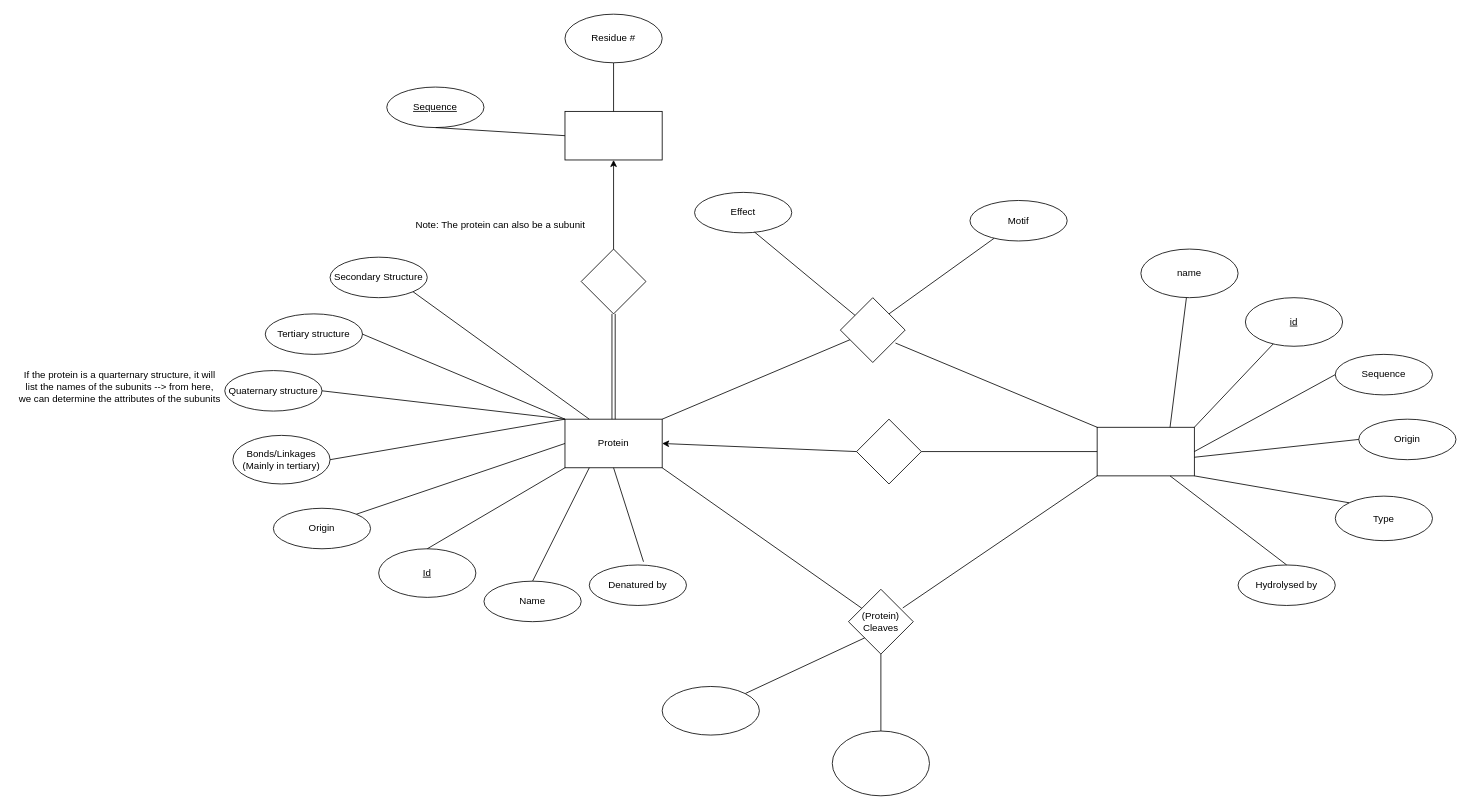
Some shapes in this 1470 by 810 pixel diagram are drawn without their labels. Each missing label, with the centre of its shape:
"Bases" belongs at [710,710].
"Binds to" belongs at [872,329].
"Codes for" belongs at [888,451].
"Has sequence" belongs at [613,281].
"Nuclease type" belongs at [880,763].
"Nucleic acid" belongs at [1145,451].
"Protein sequence" belongs at [613,135].
